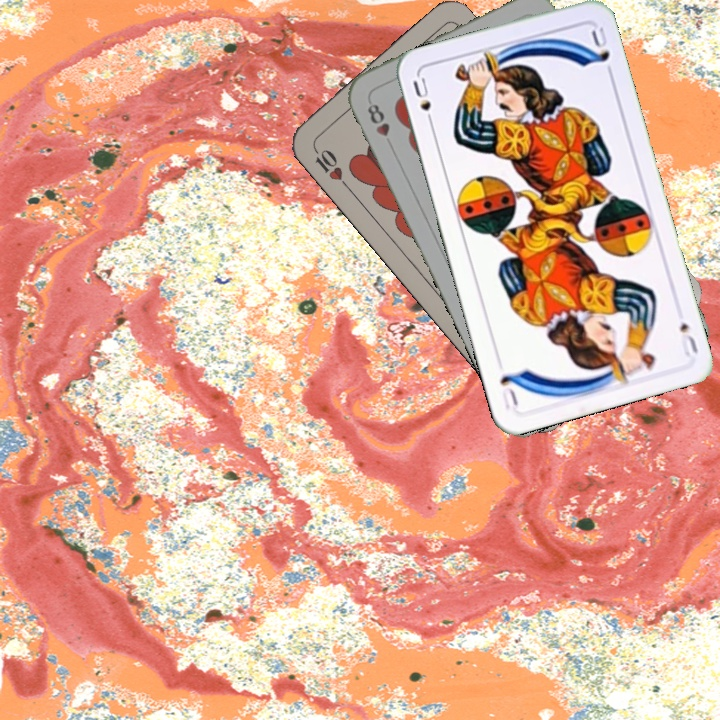H10: (308, 142, 352, 191)
H8: (363, 100, 396, 151)
SU: (409, 73, 438, 131), (675, 318, 701, 359)
